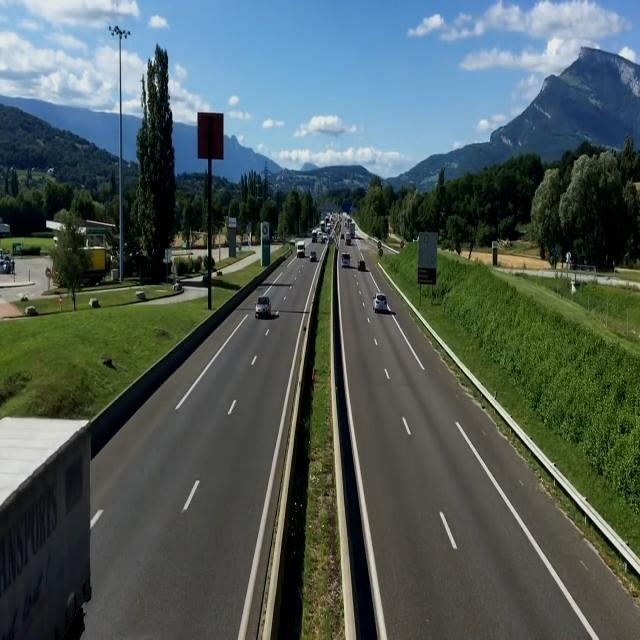Car: (243, 290, 279, 322), (370, 289, 393, 316), (355, 256, 370, 276), (308, 250, 320, 263)
Truck: (0, 420, 112, 638)
Van: (292, 239, 309, 262), (338, 251, 354, 269)
